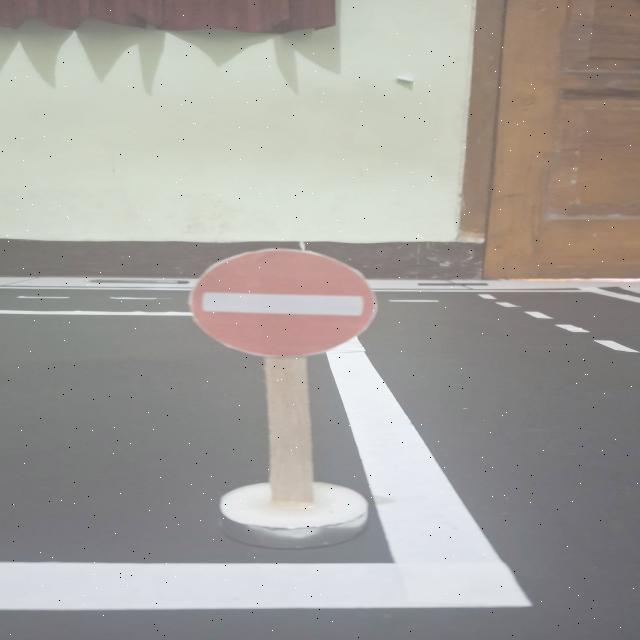Dilarang Masuk: (191, 248, 378, 357)
